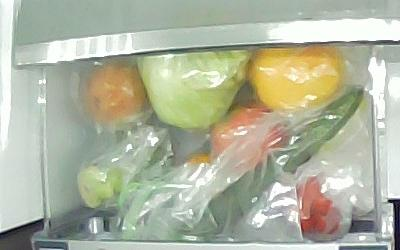apple_vinyl: (209, 103, 288, 172)
broccoli_vinyl: (77, 126, 171, 208)
cucumber_vinyl: (181, 85, 364, 237)
grapefruit_vinyl: (250, 45, 344, 113)
lettuce_vinyl: (134, 48, 251, 128)
paprika_vinyl: (295, 174, 342, 235)
peach_vinyl: (86, 64, 147, 122)
